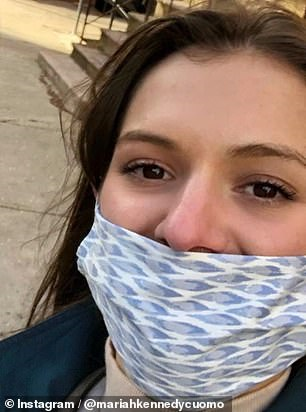mask_weared_incorrect: (82, 41, 306, 399)
